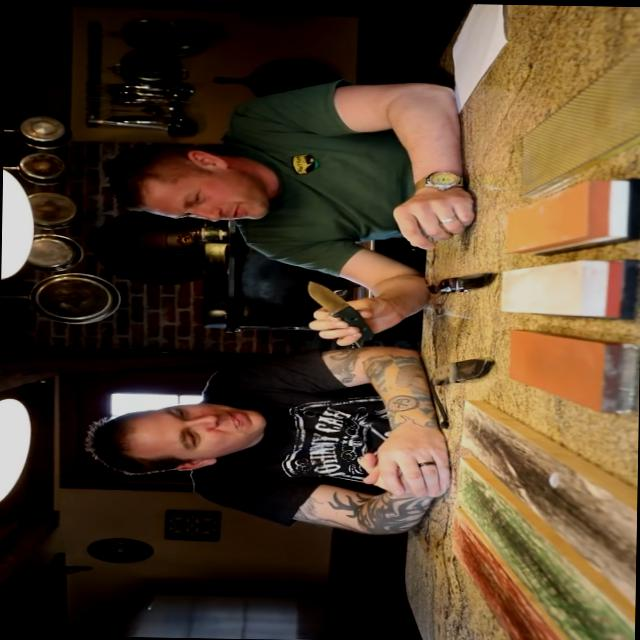knife: (294, 274, 374, 341)
